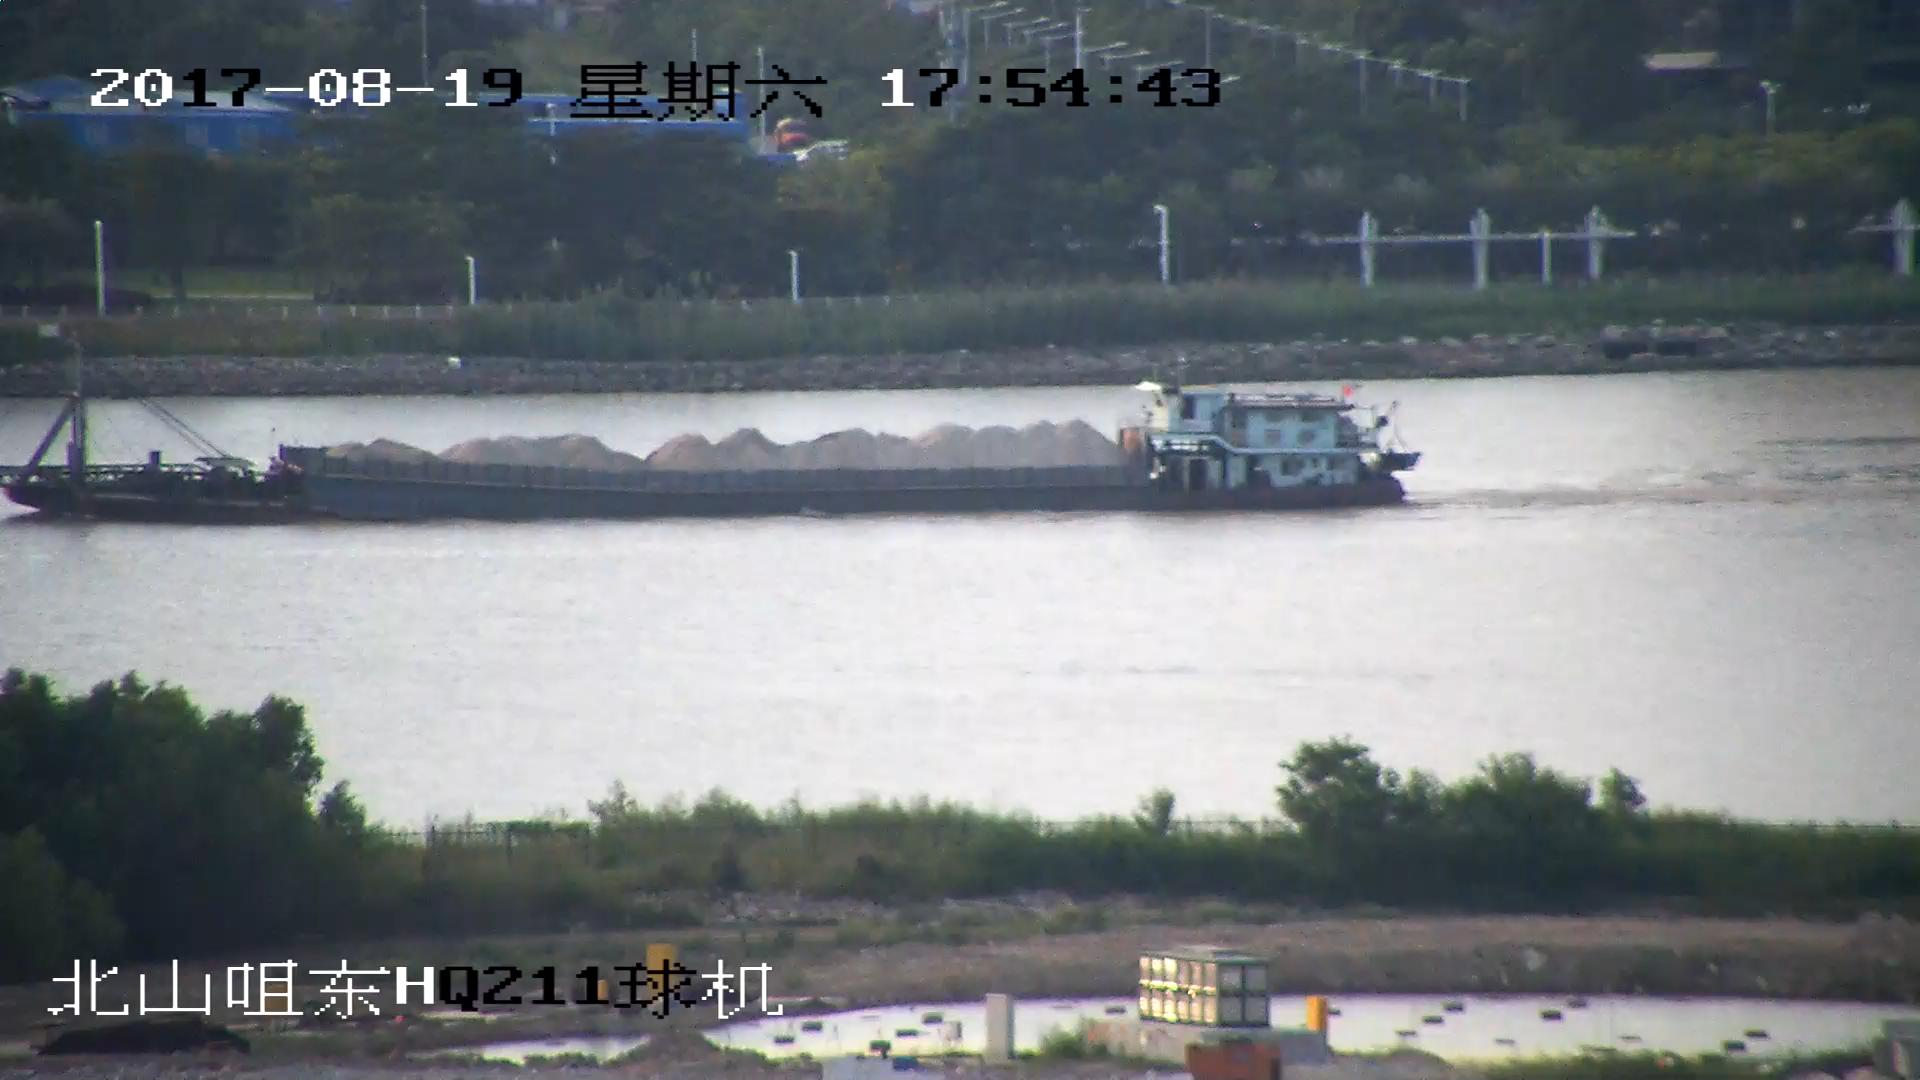ore carrier: (1, 340, 1416, 520)
